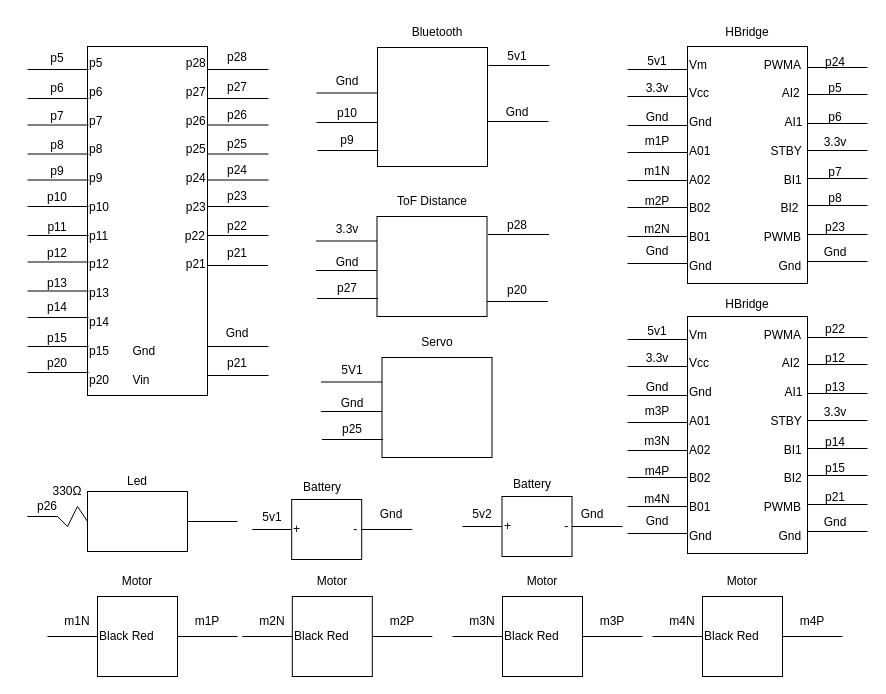
Image size: 886x694. Some labels were removed from this diagram. The shapes that lost their labels are listed below. From the top down, each one's box as (x1, y1, x2, y2) in pixels, then its label:
(376, 46, 488, 166): MOD Vin CTS RTS TXO Gnd RXI OFU
(376, 216, 487, 316): Vin SDA Gnd GPIO SCL XSHUT
(381, 356, 492, 458): Red Black Yellow
(86, 490, 188, 552): Anode Cathode
